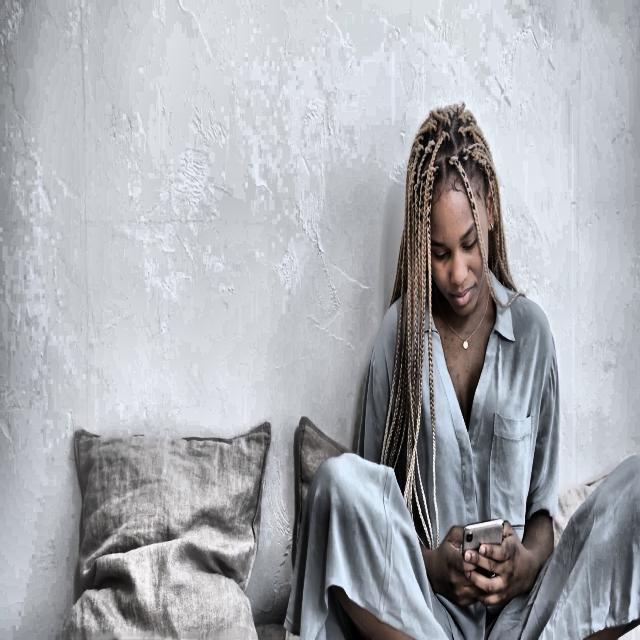Phone: (462, 514, 504, 564)
